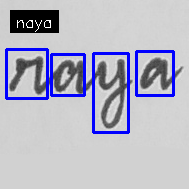a: (51, 57, 86, 96), (138, 54, 171, 92)
r: (7, 53, 46, 97)
y: (94, 56, 128, 131)
